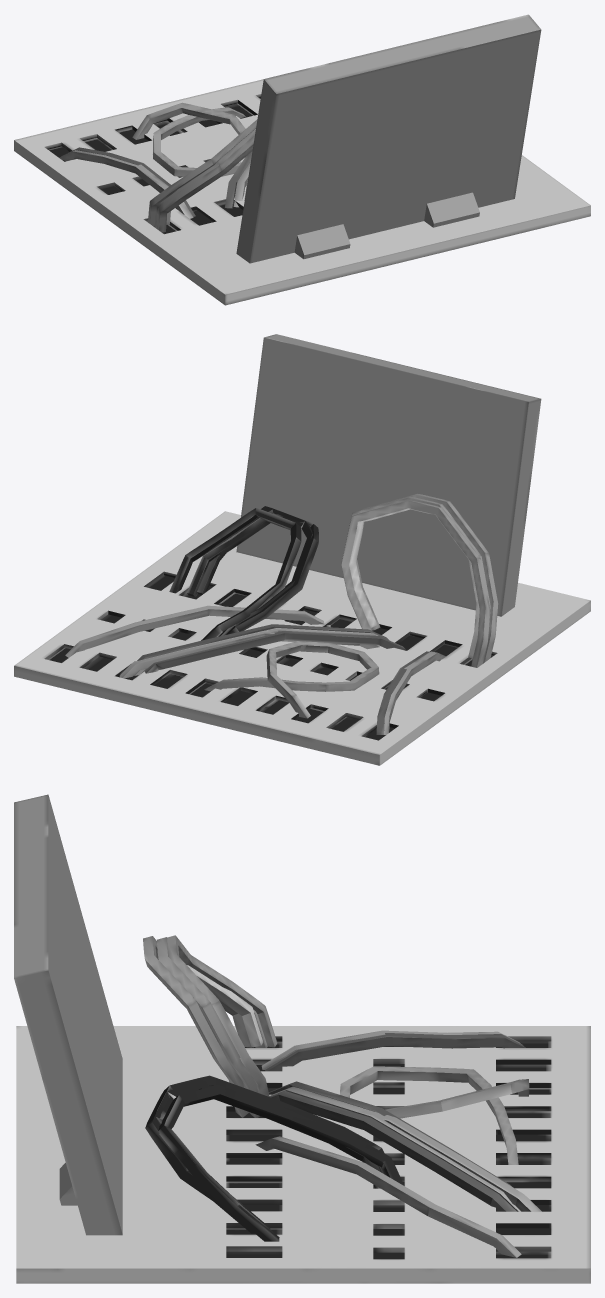
The model's file is Misc_Tech_B.fbx.
3 renders of one model, top to bottom at view 1: azimuth 30°, elevation 25°; view 2: azimuth 150°, elevation 25°; view 3: azimuth 270°, elevation 25°, orthographic. The views are drawn at different scales.
Visible parts, largest first — view 1: Misc_Tech_B; view 2: Misc_Tech_B; view 3: Misc_Tech_B.
Boxes of the visible parts, bbox=[...] form: Misc_Tech_B: bbox=[14, 14, 590, 305]; Misc_Tech_B: bbox=[14, 334, 590, 765]; Misc_Tech_B: bbox=[14, 794, 590, 1283].
Size of the model in its own units: 200 by 112 by 201.
